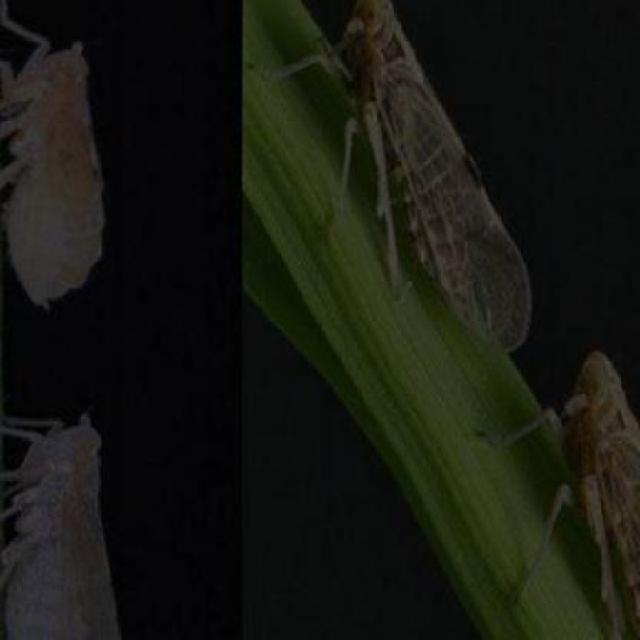brown-planthopper: (316, 0, 524, 351), (2, 12, 107, 305), (549, 340, 640, 640), (4, 407, 121, 640)
